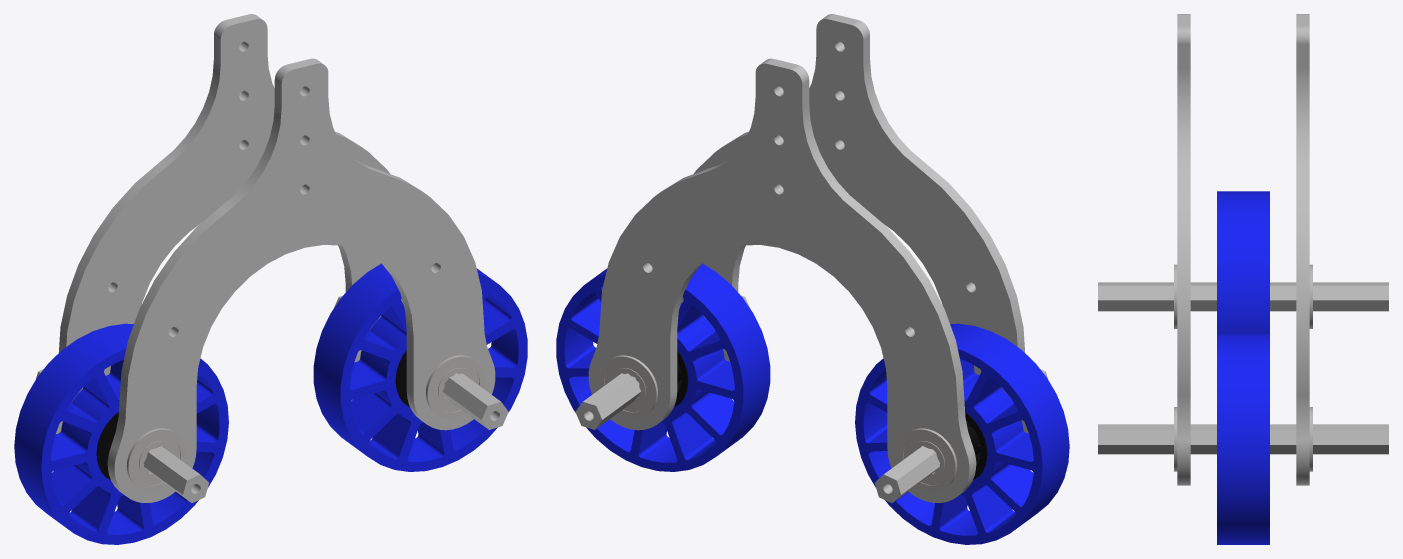
The picture shows the model from 3 angles, left to right: view 1: azimuth 30°, elevation 25°; view 2: azimuth 150°, elevation 25°; view 3: azimuth 270°, elevation 25°; orthographic projection. The views are drawn at different scales.
Visible parts, largest first — view 1: Y Bone:2, Y Bone:1, wheel_compliant_4in_.5hex:4, wheel_compliant_4in_.5hex:1, Passive Arm Hex Shaft:1, Passive Arm Hex Shaft:2, bearing_.5hex_flanged:4, bearing_.5hex_flanged:2; view 2: Y Bone:1, Y Bone:2, wheel_compliant_4in_.5hex:4, wheel_compliant_4in_.5hex:1, Passive Arm Hex Shaft:1, Passive Arm Hex Shaft:2, bearing_.5hex_flanged:3, bearing_.5hex_flanged:1; view 3: wheel_compliant_4in_.5hex:1, wheel_compliant_4in_.5hex:4, Y Bone:1, Y Bone:2, Passive Arm Hex Shaft:1, Passive Arm Hex Shaft:2.
Boxes of the visible parts, <box> form: Y Bone:2: <box>107,58,495,502</box>; Y Bone:1: <box>56,14,402,433</box>; wheel_compliant_4in_.5hex:4: <box>14,323,228,544</box>; wheel_compliant_4in_.5hex:1: <box>313,263,527,471</box>; Passive Arm Hex Shaft:1: <box>334,295,508,429</box>; Passive Arm Hex Shaft:2: <box>36,369,208,502</box>; bearing_.5hex_flanged:4: <box>126,428,185,491</box>; bearing_.5hex_flanged:2: <box>426,355,484,418</box>; Y Bone:1: <box>588,58,976,502</box>; Y Bone:2: <box>681,14,1028,433</box>; wheel_compliant_4in_.5hex:4: <box>855,323,1069,544</box>; wheel_compliant_4in_.5hex:1: <box>556,263,770,471</box>; Passive Arm Hex Shaft:1: <box>575,295,749,429</box>; Passive Arm Hex Shaft:2: <box>875,369,1047,502</box>; bearing_.5hex_flanged:3: <box>898,428,957,491</box>; bearing_.5hex_flanged:1: <box>599,355,657,418</box>; wheel_compliant_4in_.5hex:1: <box>1217,333,1269,544</box>; wheel_compliant_4in_.5hex:4: <box>1217,191,1269,333</box>; Y Bone:1: <box>1296,14,1309,485</box>; Y Bone:2: <box>1177,14,1190,485</box>; Passive Arm Hex Shaft:1: <box>1098,424,1388,454</box>; Passive Arm Hex Shaft:2: <box>1098,282,1388,311</box>.
Bounding box in the file's own units: 0.2633 × 0.2349 × 0.1397.
